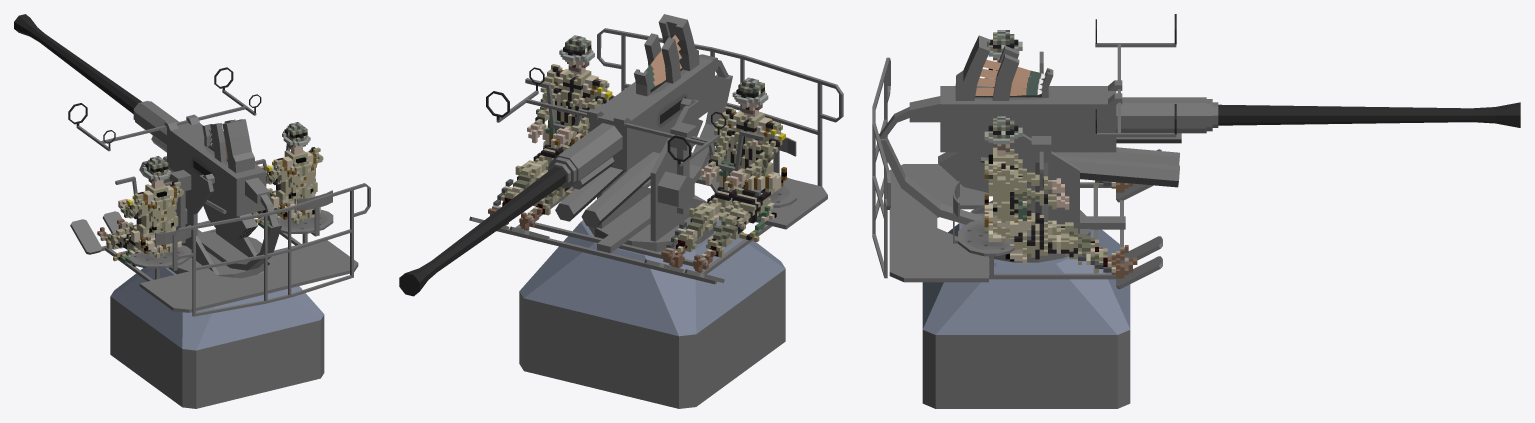
File: bofors.glb
The picture shows the model from 3 angles, left to right: view 1: azimuth 30°, elevation 25°; view 2: azimuth 150°, elevation 25°; view 3: azimuth 270°, elevation 25°; orthographic projection. The views are drawn at different scales.
Parts seen in each view (by area): view 1: 02_turret_bofors_turret.mesh, 00_chassis_bofors_base.mesh, crew_soldier_SLOT_00_GUNNER, crew_soldier_SLOT_01_PASSENGER; view 2: 02_turret_bofors_turret.mesh, 00_chassis_bofors_base.mesh, crew_soldier_SLOT_00_GUNNER, crew_soldier_SLOT_01_PASSENGER; view 3: 02_turret_bofors_turret.mesh, 00_chassis_bofors_base.mesh, crew_soldier_SLOT_01_PASSENGER, crew_soldier_SLOT_00_GUNNER.
Boxes of the visible parts, box(x1,y1,x2,y2) form: 02_turret_bofors_turret.mesh: box(14, 14, 370, 316); 00_chassis_bofors_base.mesh: box(110, 265, 324, 408); crew_soldier_SLOT_00_GUNNER: box(97, 156, 183, 266); crew_soldier_SLOT_01_PASSENGER: box(251, 122, 323, 228); 02_turret_bofors_turret.mesh: box(399, 14, 843, 296); 00_chassis_bofors_base.mesh: box(519, 220, 785, 408); crew_soldier_SLOT_00_GUNNER: box(661, 77, 786, 272); crew_soldier_SLOT_01_PASSENGER: box(488, 35, 612, 230); 02_turret_bofors_turret.mesh: box(872, 14, 1520, 289); 00_chassis_bofors_base.mesh: box(922, 223, 1130, 408); crew_soldier_SLOT_01_PASSENGER: box(984, 116, 1137, 278); crew_soldier_SLOT_00_GUNNER: box(984, 30, 1132, 192).
Size of the model in its own units: 2.14 by 2.63 by 4.78.
37 materials, 1 textured.
